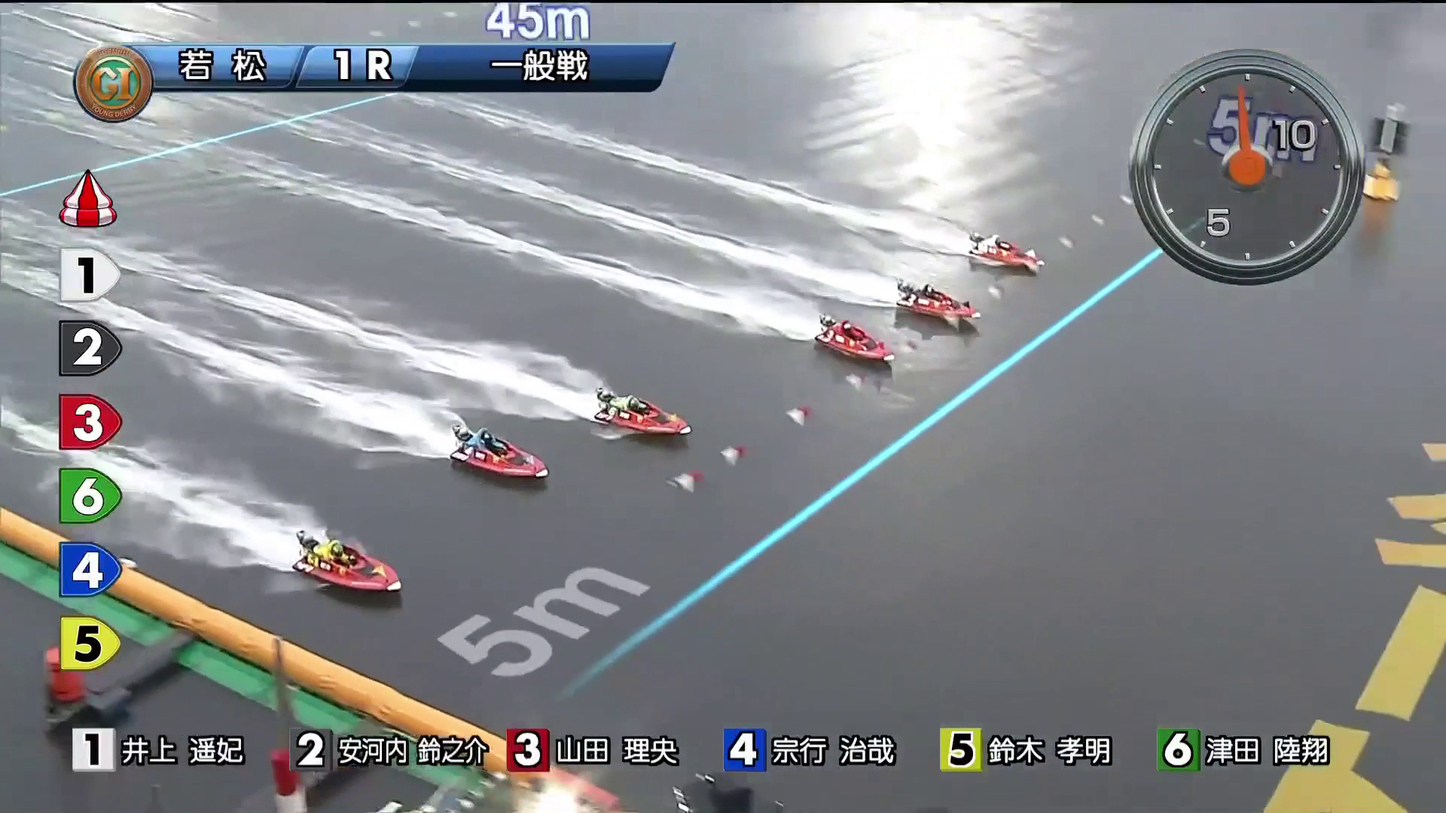１号艇: (925, 224, 996, 271)
２号艇: (898, 278, 960, 316)
３号艇: (817, 314, 872, 355)
４号艇: (621, 389, 685, 432)
５号艇: (490, 451, 558, 489)
６号艇: (380, 573, 445, 620)
